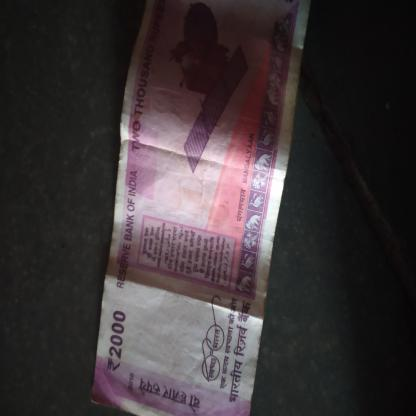New2000Back: (97, 0, 281, 415)
